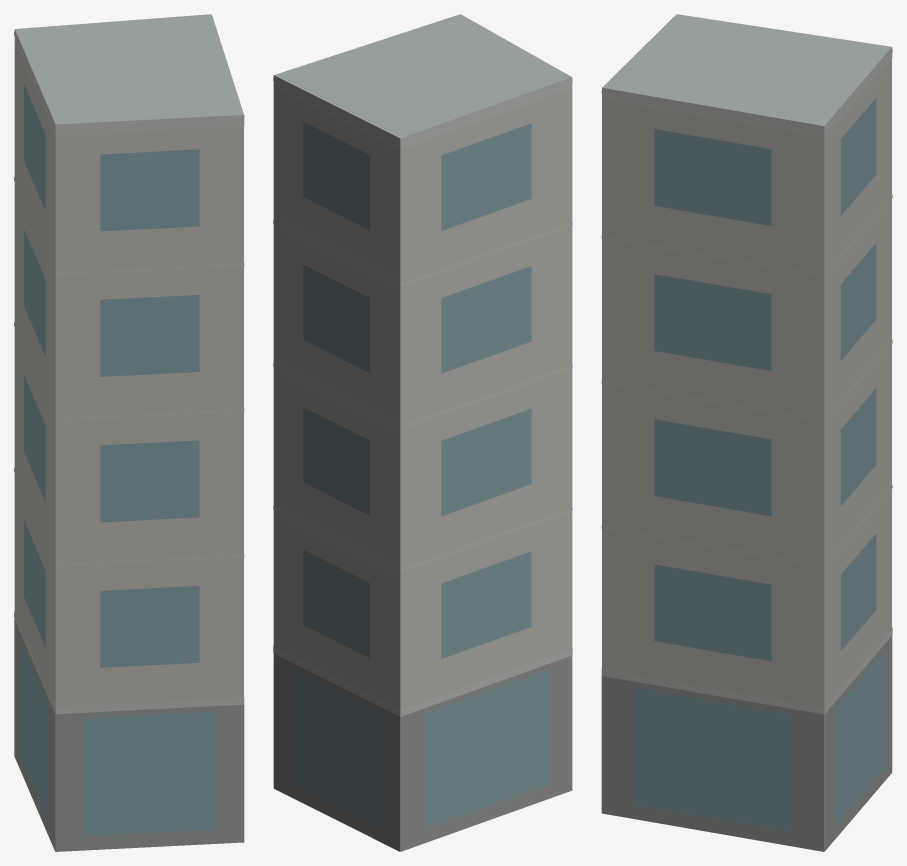
The model's file is survey-upis-32817752.glb.
The picture shows the model from 3 angles, left to right: view 1: azimuth 30°, elevation 25°; view 2: azimuth 150°, elevation 25°; view 3: azimuth 270°, elevation 25°; orthographic projection.
Parts seen in each view (by area): view 1: survey-upis-32817752.tmp; view 2: survey-upis-32817752.tmp; view 3: survey-upis-32817752.tmp.
Boxes of the visible parts, x1=… form: survey-upis-32817752.tmp: x1=14, y1=14, x2=244, y2=851; survey-upis-32817752.tmp: x1=273, y1=14, x2=572, y2=851; survey-upis-32817752.tmp: x1=601, y1=14, x2=892, y2=851.
Size of the model in its own units: 5.08 by 15.25 by 5.55.
